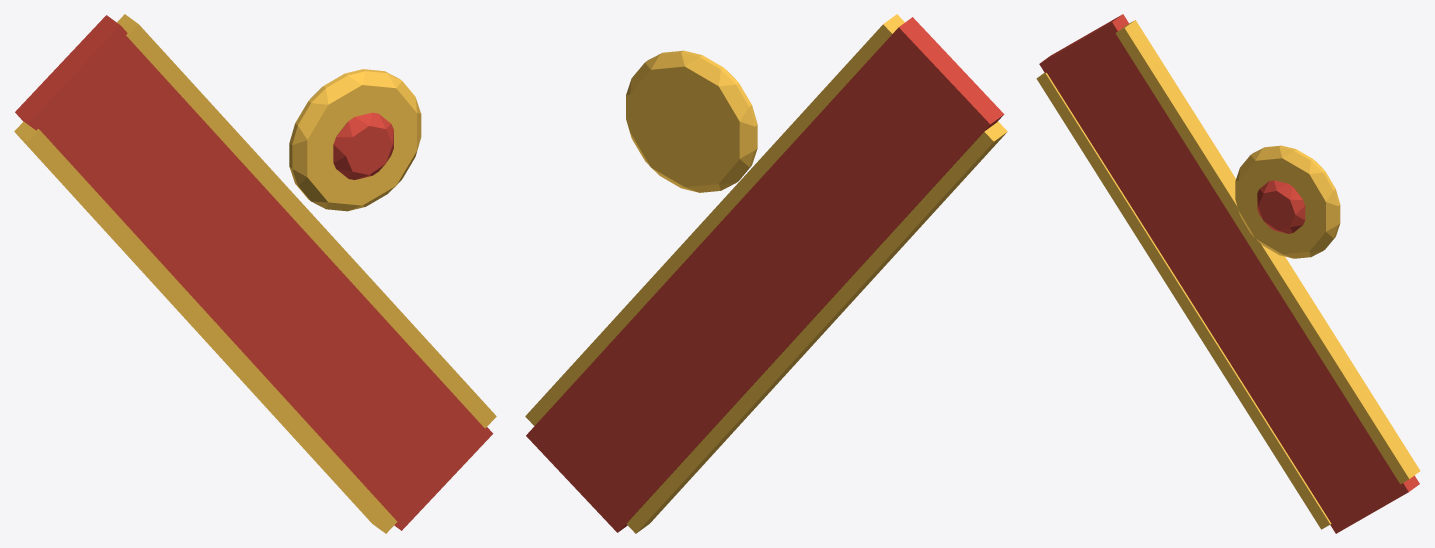
Rendered from CatCafe_Accessory_Sash.glb.
3 renders of one model, left to right at view 1: azimuth 30°, elevation 25°; view 2: azimuth 150°, elevation 25°; view 3: azimuth 330°, elevation 25°, orthographic. The views are drawn at different scales.
Parts seen in each view (by area): view 1: CatCafe_Accessory_Sash; view 2: CatCafe_Accessory_Sash; view 3: CatCafe_Accessory_Sash.
Boxes of the visible parts, bbox=[...] form: CatCafe_Accessory_Sash: bbox=[14, 14, 496, 533]; CatCafe_Accessory_Sash: bbox=[525, 14, 1007, 533]; CatCafe_Accessory_Sash: bbox=[1036, 14, 1420, 533].
Bounding box in the file's own units: 0.9673 × 1.13 × 0.125.
Materials: 1 (1 with a texture image).
